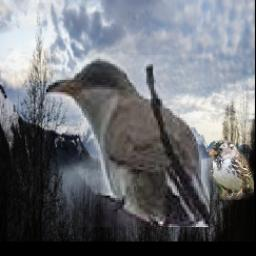Cuckoo: (47, 55, 211, 227)
Sparrow: (210, 140, 255, 200)
